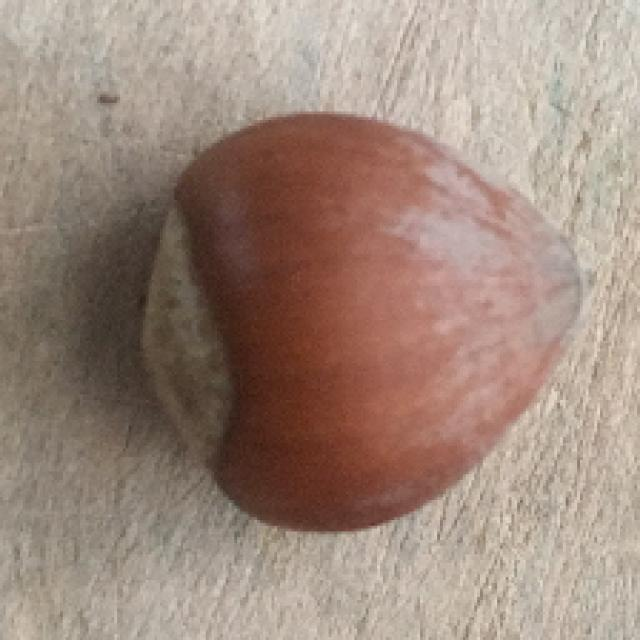qualityHazelnut: (144, 111, 599, 534)
